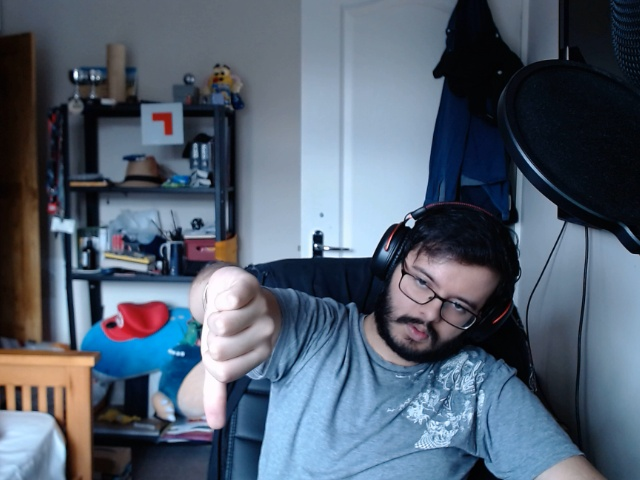Thumbs down: (185, 259, 281, 438)
